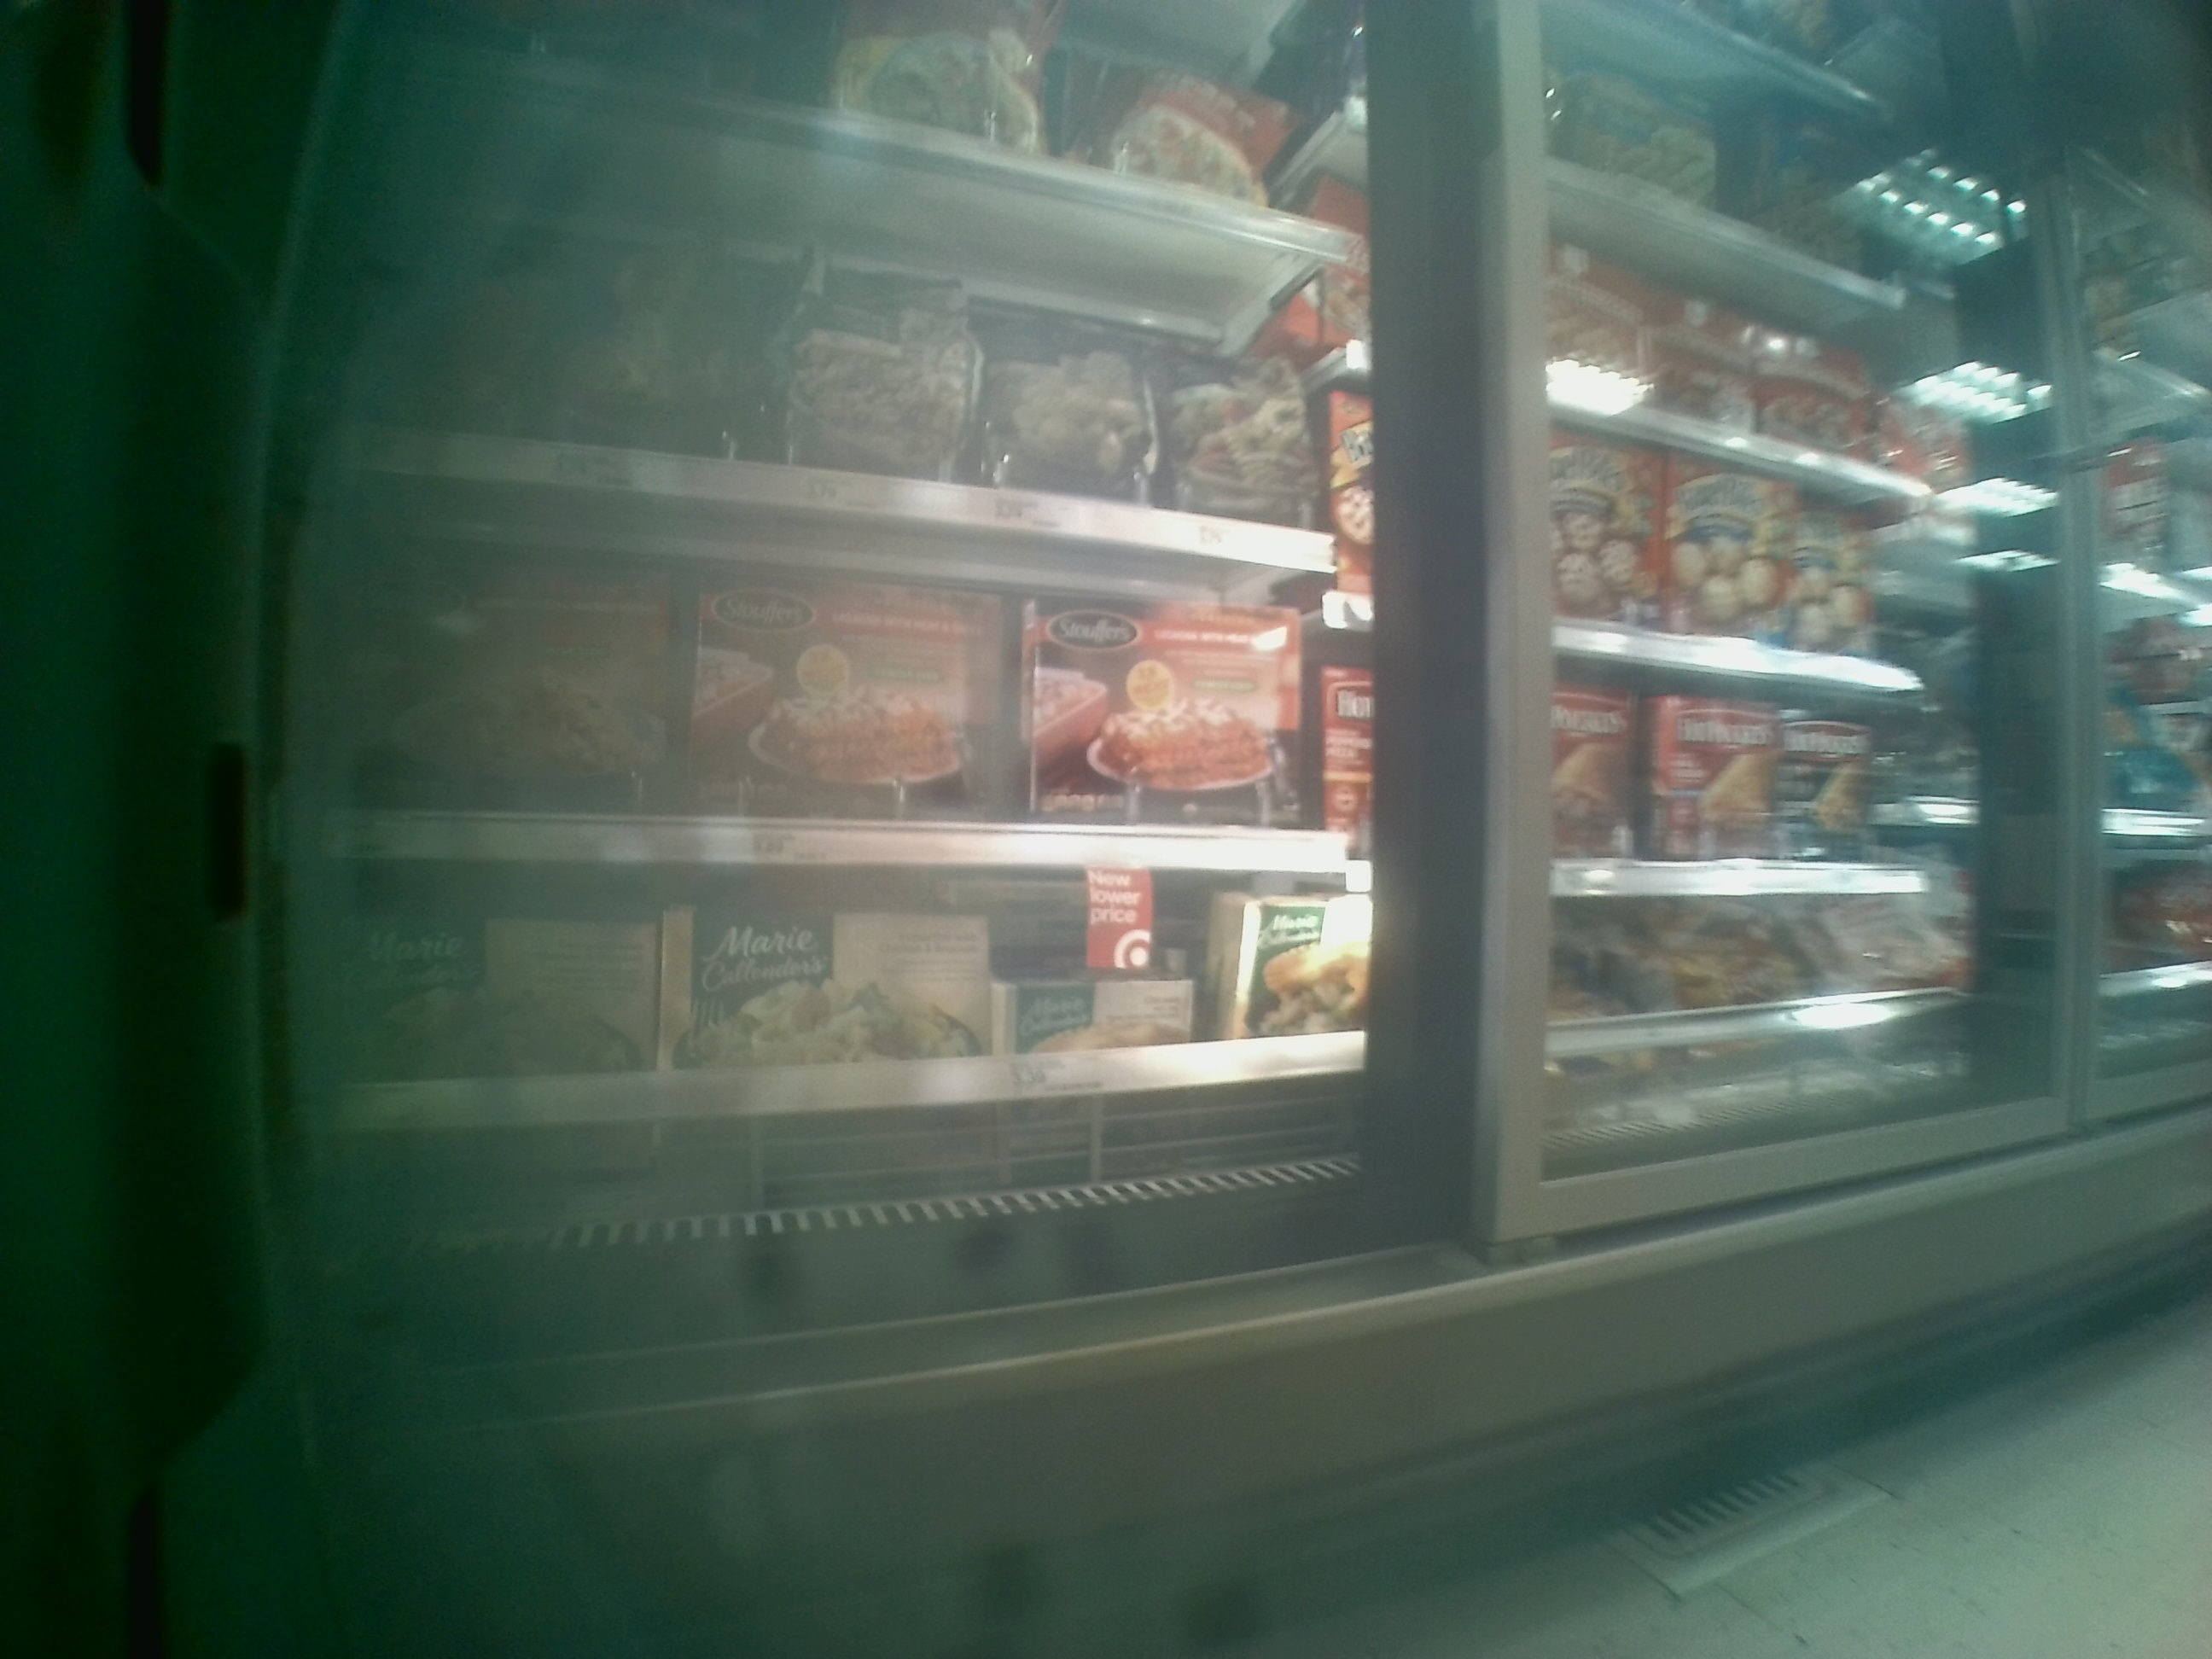shelf: (300, 484, 1364, 880), (298, 864, 1376, 1121)
